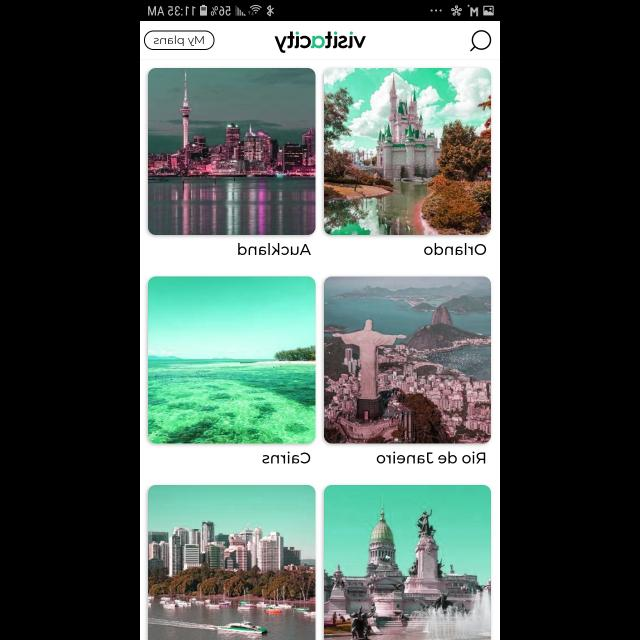icon: (469, 31, 491, 53)
image: (324, 276, 491, 444), (148, 68, 316, 235), (324, 68, 491, 235), (148, 276, 314, 444), (148, 484, 316, 640), (324, 484, 491, 640), (274, 31, 366, 53)
text: (376, 452, 486, 464), (238, 243, 310, 255), (424, 244, 486, 256), (262, 452, 310, 464)
textbutton: (143, 31, 214, 51)
uppertaskbar: (140, 1, 500, 22)
